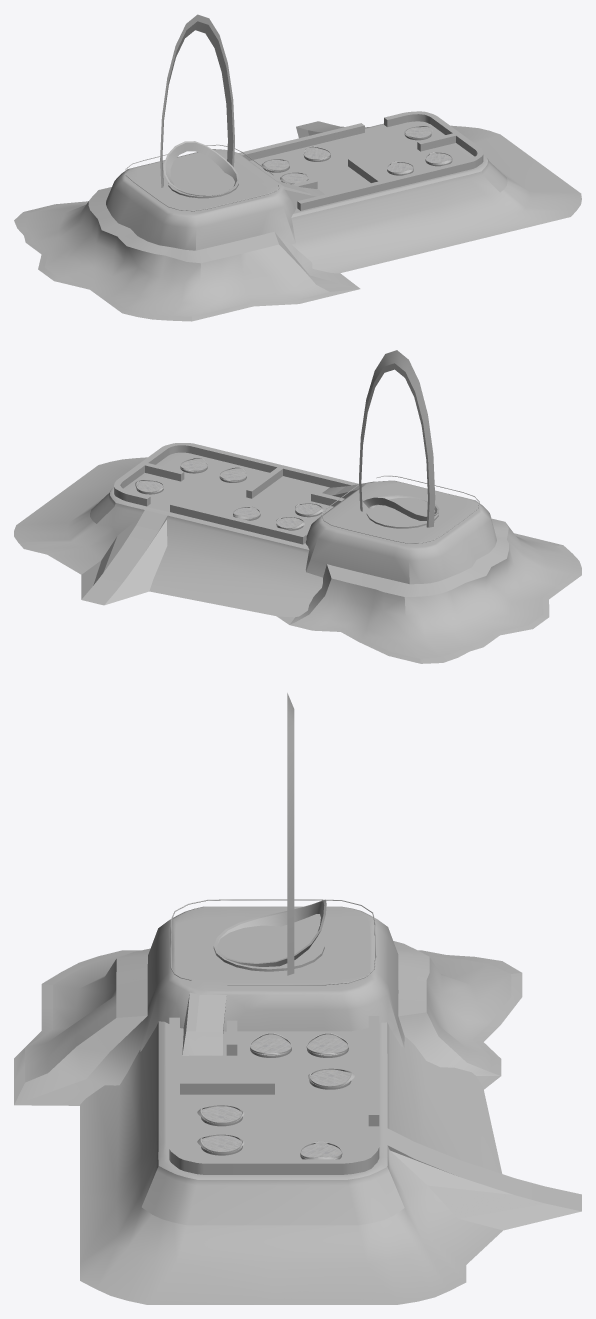
File: welcome.glb
3 renders of one model, top to bottom at view 1: azimuth 30°, elevation 25°; view 2: azimuth 150°, elevation 25°; view 3: azimuth 270°, elevation 25°, orthographic. The views are drawn at different scales.
Parts seen in each view (by area): view 1: pPlane1, pPlane2, pasted__pCylinder1, pCube2, pCube1; view 2: pPlane1, pPlane2, pasted__pCylinder1, pCube2, pCube1, pCylinder11; view 3: pPlane2, pPlane1, pasted__pCylinder1, pCube2, pCube1, pCylinder11, pCylinder7, pCylinder9, pCylinder10, pCylinder6, pCylinder5.
Boxes of the visible parts, x1,y1,x2,y2 form: pPlane1: (14,149,360,321); pPlane2: (250,121,581,273); pasted__pCylinder1: (160,14,239,198); pCube2: (297,111,483,210); pCube1: (239,123,364,160); pPlane1: (277,480,581,663); pPlane2: (14,452,333,617); pasted__pCylinder1: (359,350,439,528); pCube2: (114,443,358,506); pCube1: (170,502,306,544); pCylinder11: (321,475,479,543); pPlane2: (80,1021,581,1304); pPlane1: (14,906,522,1105); pasted__pCylinder1: (213,693,326,975); pCube2: (169,1017,379,1174); pCube1: (368,1016,379,1126); pCylinder11: (170,899,376,985); pCylinder7: (308,1068,354,1089); pCylinder9: (197,1134,244,1155); pCylinder10: (197,1105,244,1126); pCylinder6: (306,1033,348,1057); pCylinder5: (250,1033,291,1057).
Bounding box in the file's own units: 16.56 × 7.46 × 10.79.
Materials: 2 (1 with a texture image).
